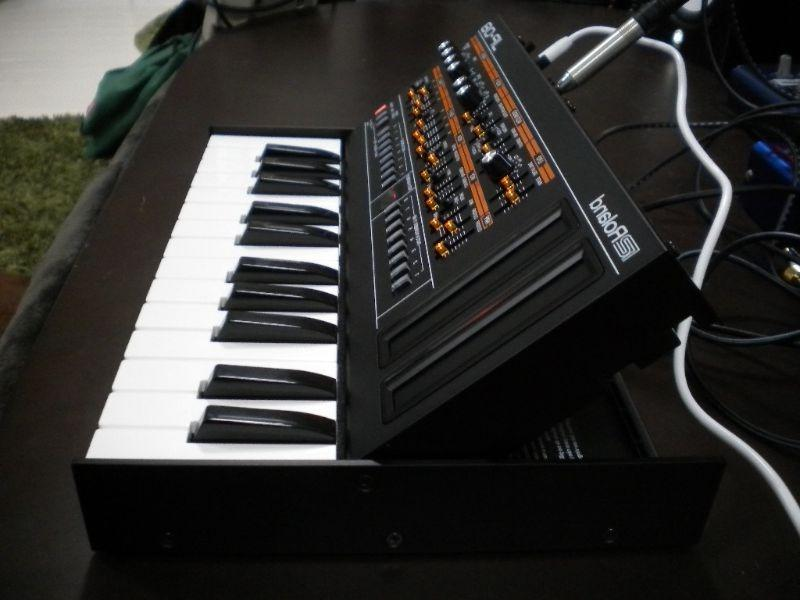synthesizer: (70, 41, 667, 530)
